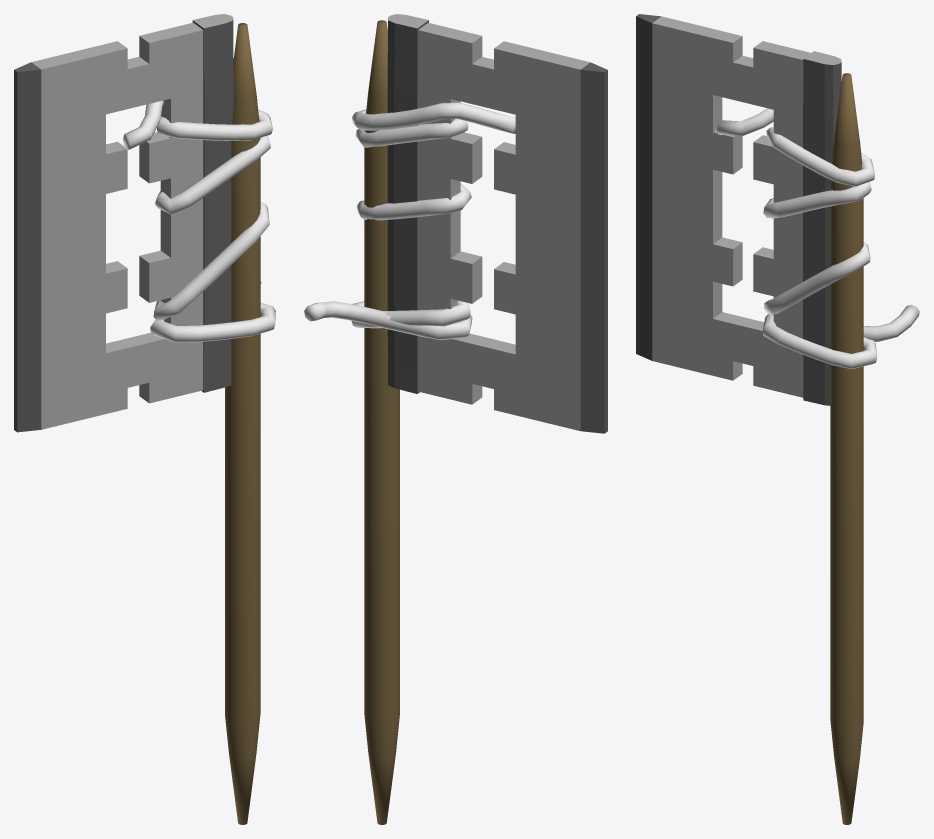
The model's file is axe.fbx.
3 renders of one model, left to right at view 1: azimuth 30°, elevation 25°; view 2: azimuth 150°, elevation 25°; view 3: azimuth 330°, elevation 25°, orthographic. The views are drawn at different scales.
Parts seen in each view (by area): view 1: Axe; view 2: Axe; view 3: Axe.
Part boxes in pixels (left/top/right/bottom): Axe: left=14, top=14, right=275, bottom=824; Axe: left=304, top=14, right=607, bottom=824; Axe: left=636, top=14, right=919, bottom=824.
Size of the model in its own units: 21.44 by 62.13 by 7.57.
